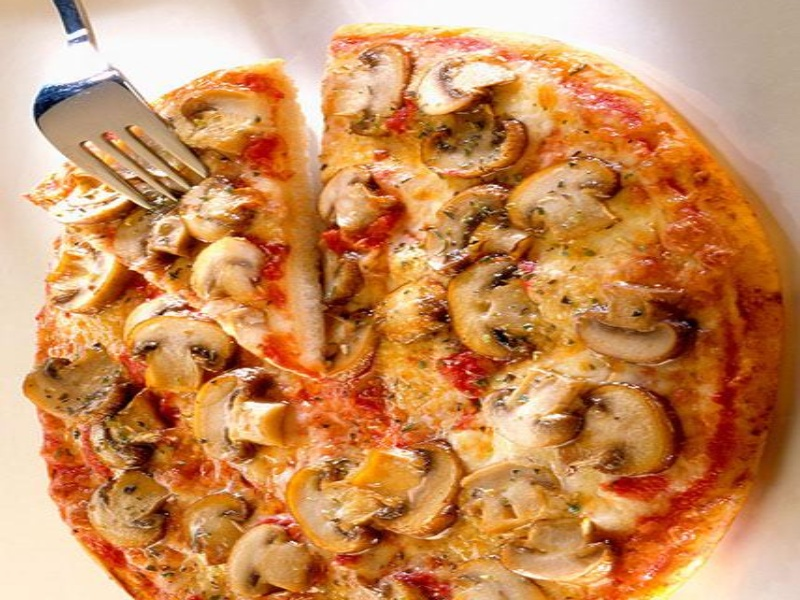champignon: (562, 372, 686, 482), (278, 456, 405, 563), (438, 253, 549, 372), (501, 501, 629, 599), (497, 154, 632, 243), (479, 357, 587, 459), (568, 278, 685, 366), (414, 102, 533, 184), (80, 461, 179, 559), (192, 367, 290, 465), (215, 515, 326, 600), (126, 315, 238, 397), (328, 39, 417, 141), (184, 232, 275, 322), (314, 157, 395, 237)
